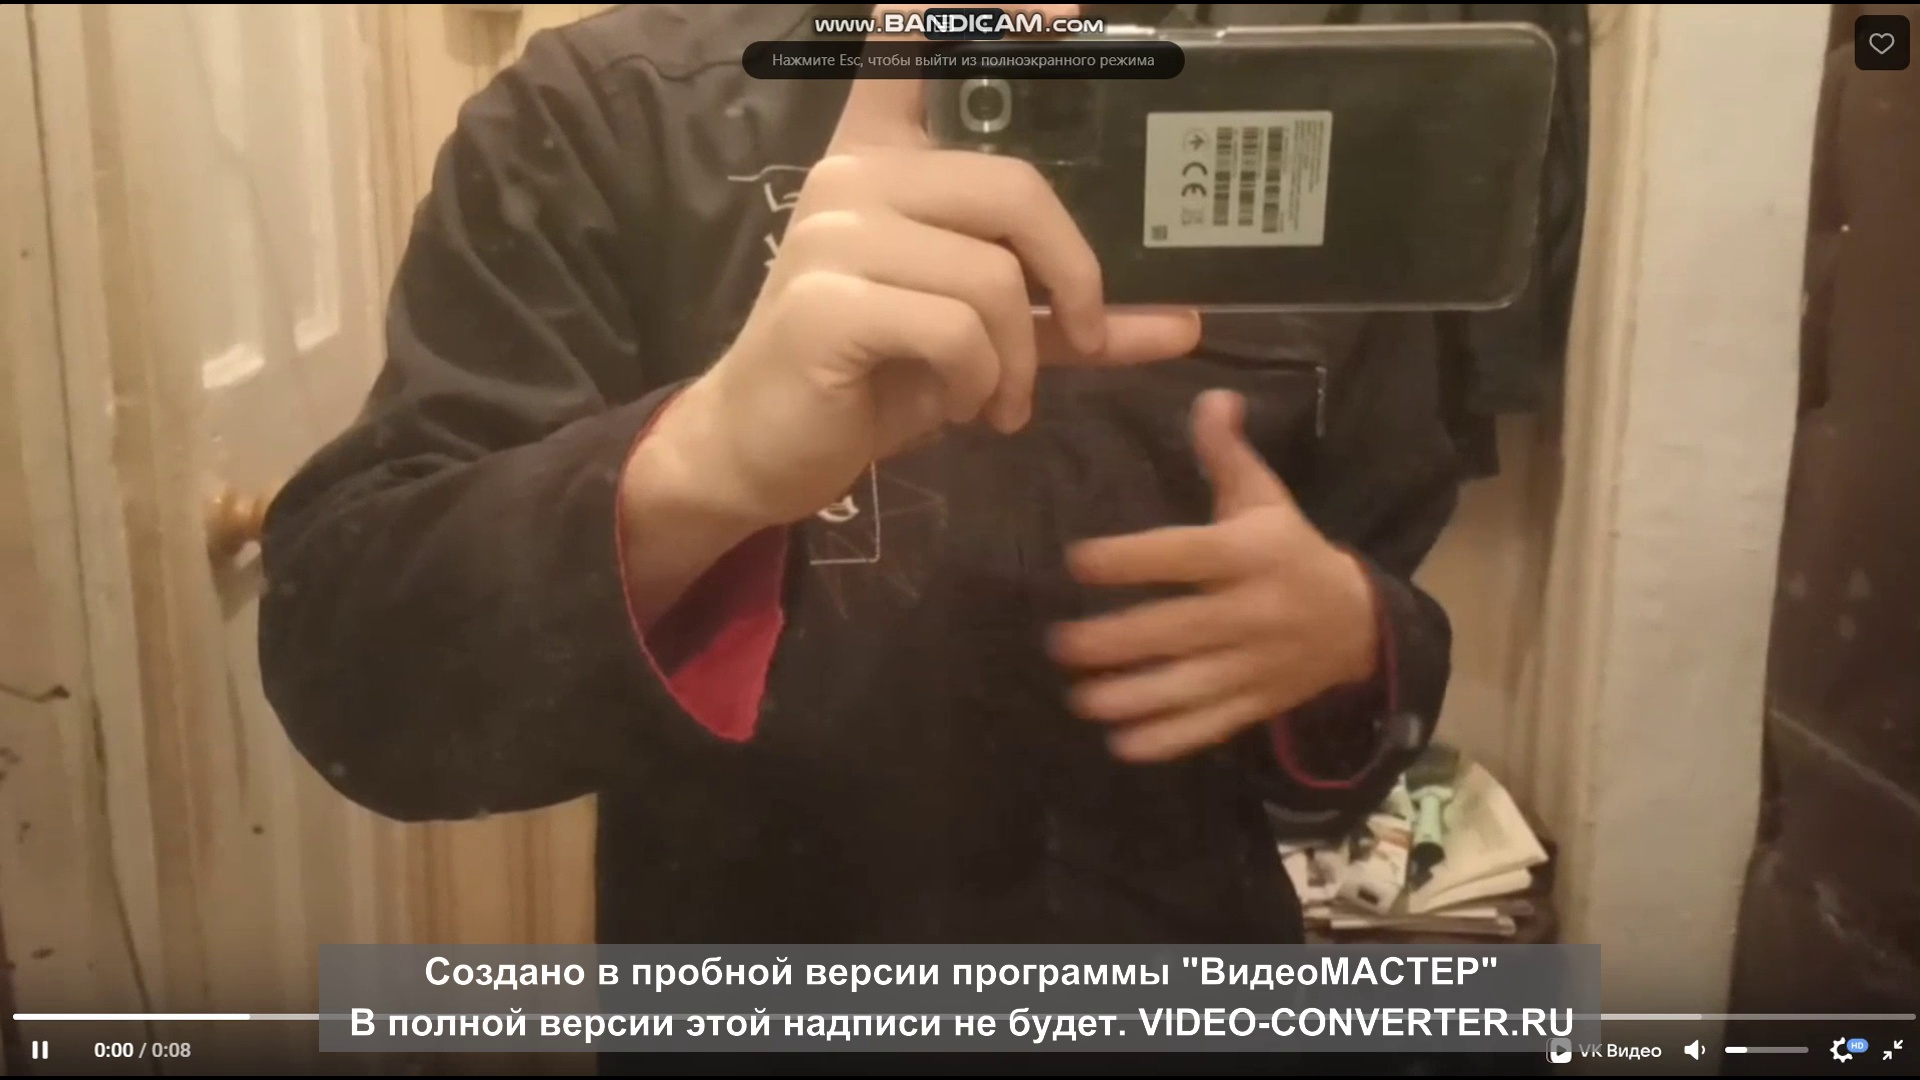Кисть: (1047, 394, 1364, 764)
